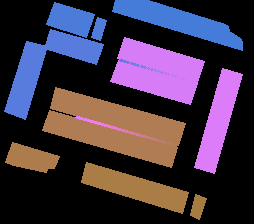parkingspot: (50, 87, 185, 145), (42, 110, 177, 167), (112, 0, 242, 50), (81, 162, 188, 213), (194, 68, 242, 173), (117, 37, 204, 82), (110, 60, 197, 104), (4, 41, 47, 119), (44, 29, 103, 64), (46, 2, 94, 37), (5, 142, 59, 172), (190, 194, 206, 219), (91, 17, 106, 40)
